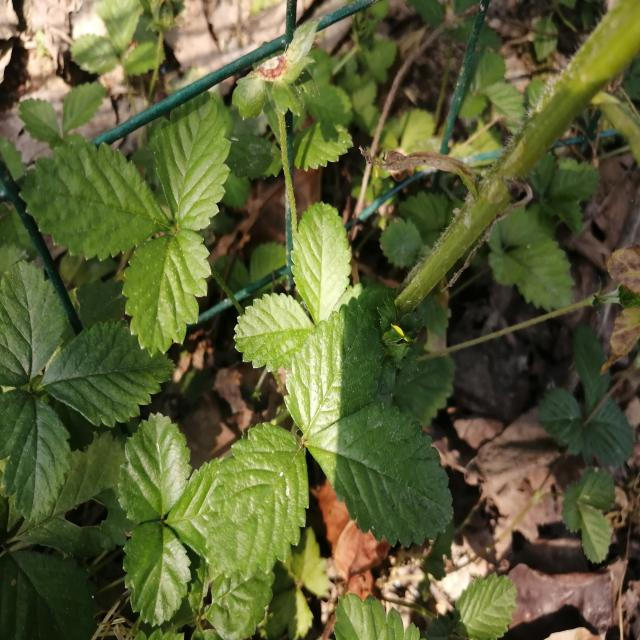Mock_strawberry: (190, 301, 453, 571), (23, 96, 246, 342)
